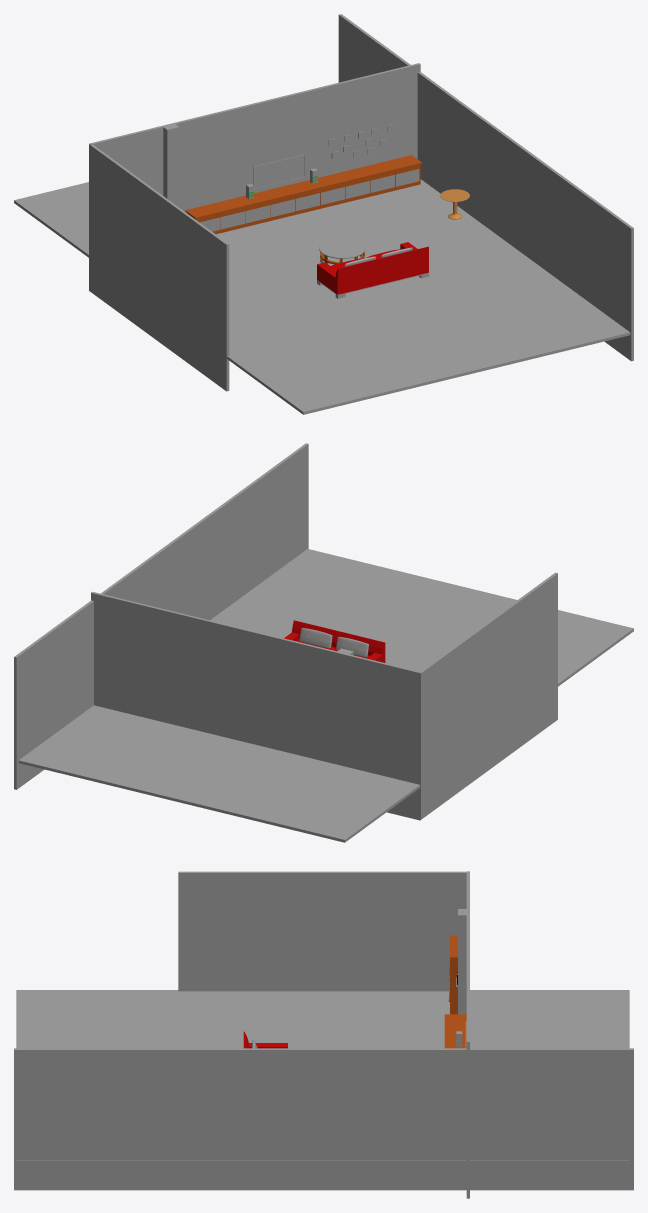
File: house.obj
3 views of the same model, one above another, from view 1: azimuth 30°, elevation 25°; view 2: azimuth 150°, elevation 25°; view 3: azimuth 270°, elevation 25° (orthographic). The views are drawn at different scales.
Visible parts, largest first — view 1: Cube.003_Cube.004; view 2: Cube.003_Cube.004; view 3: Cube.003_Cube.004.
Boxes of the visible parts, <box> form: Cube.003_Cube.004: <box>14,14,633,414</box>; Cube.003_Cube.004: <box>14,443,633,842</box>; Cube.003_Cube.004: <box>14,871,633,1198</box>.
Size of the model in its own units: 6.75 by 2.89 by 10.36.
